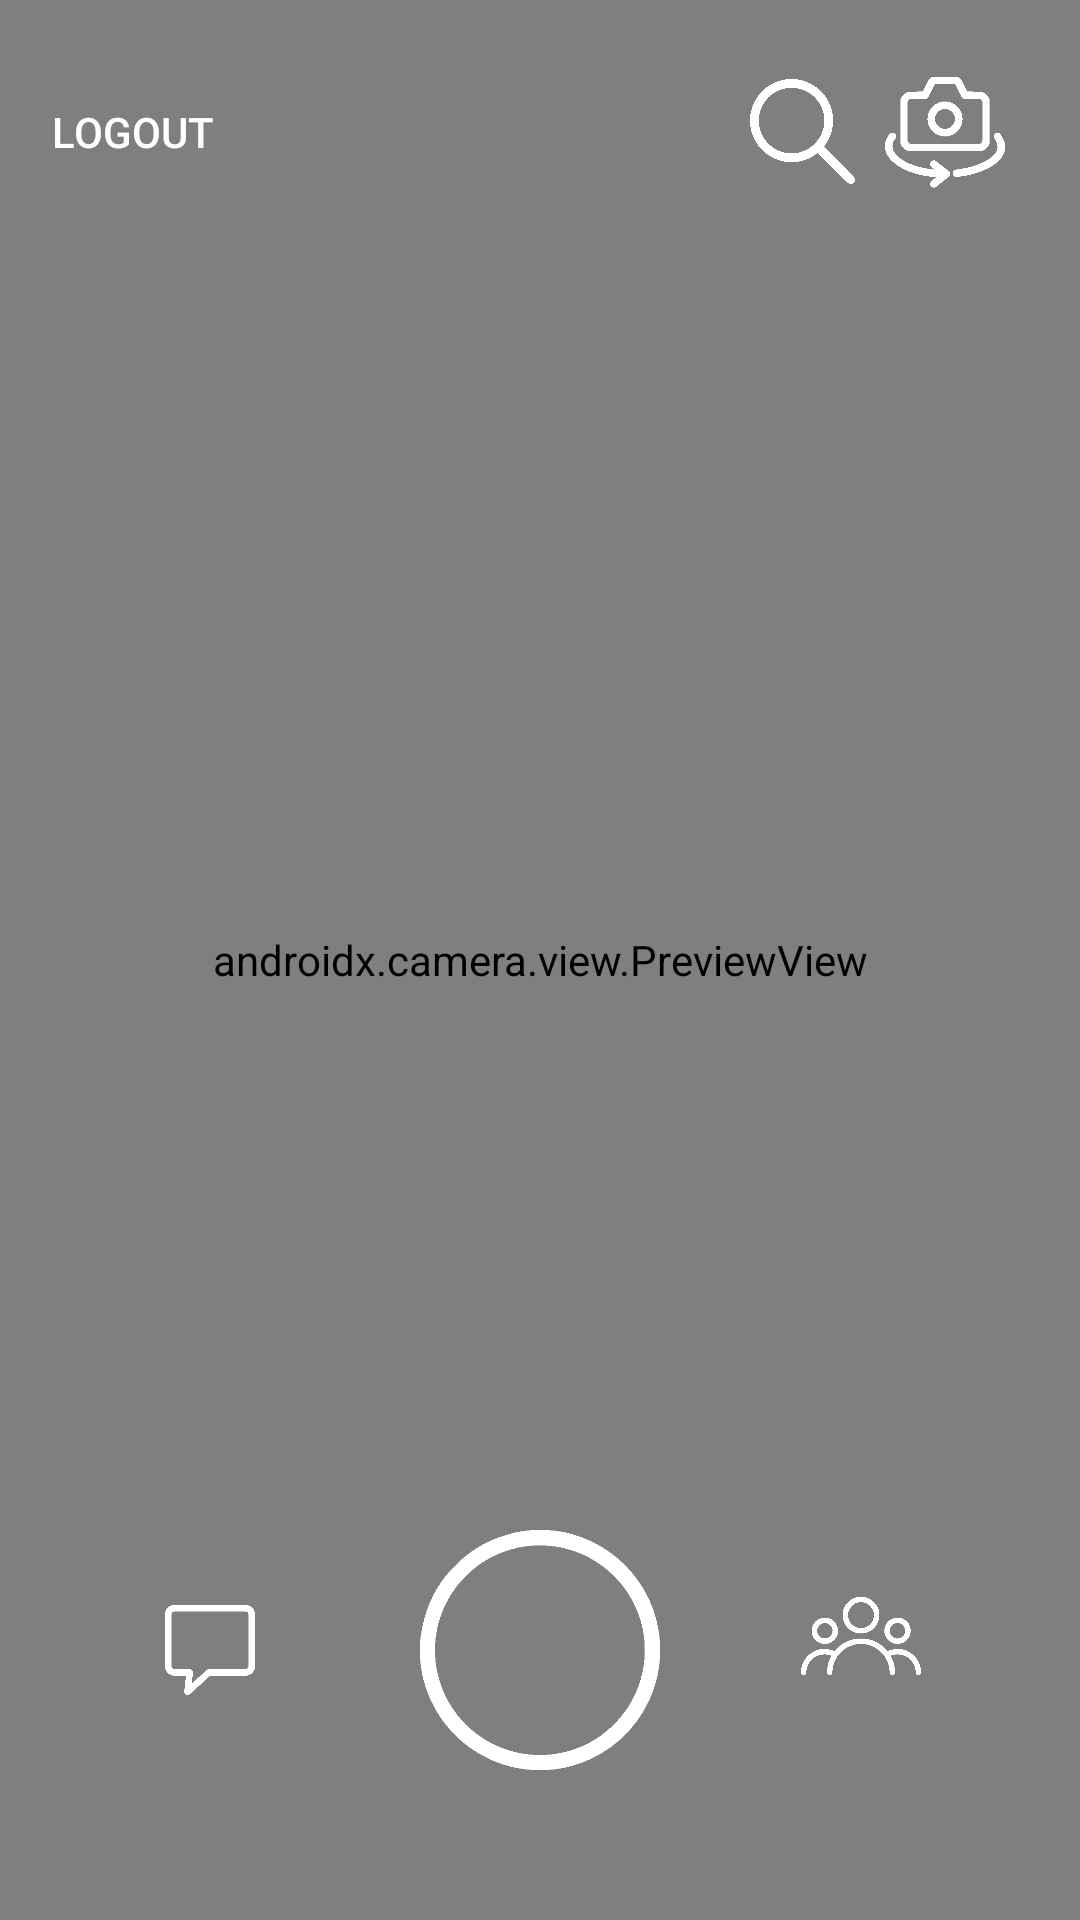

Point at icon controls on the screen. Image size 1080 × 1920, points as (x,y).
chatwhite: (210,1650)
flip: (945,132)
whitering: (540,1650)
whitesearch: (802,131)
